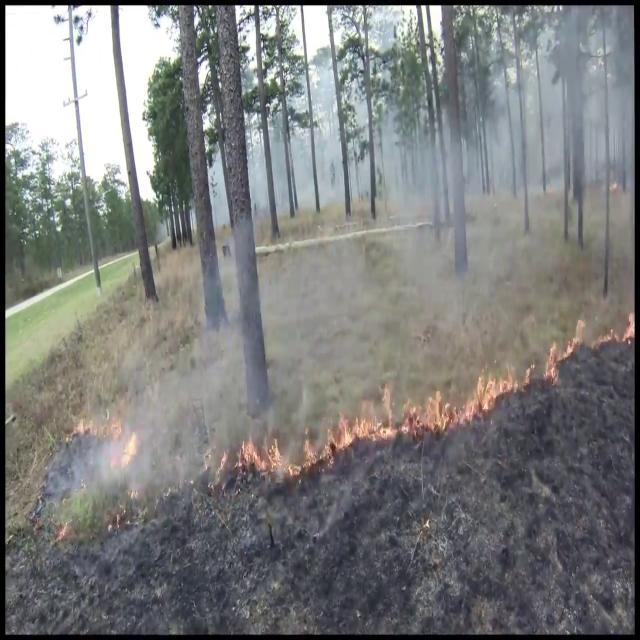Fire: (339, 370, 523, 436), (229, 424, 328, 481)
Smoke: (225, 33, 640, 385), (64, 323, 252, 511)
